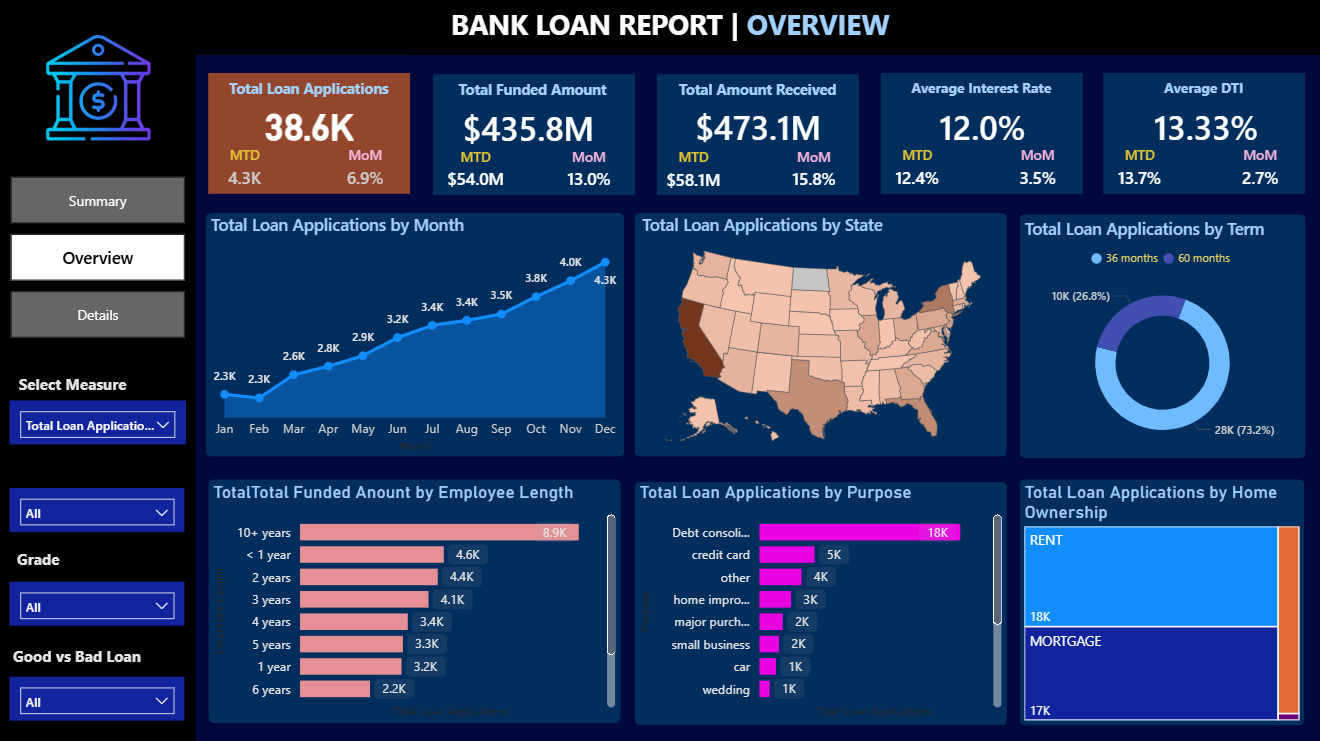

This screenshot's page, from the dashboard's own definition file:
{"tool":"powerbi","page":{"name":"Overview","canvas":[1280,720],"ordinal":1},"visuals":[{"type":"shape","box":[0,0,1280.3,54.9],"z":0},{"type":"textbox","box":[861,72.4,177,31.6],"z":0,"group":"g5"},{"type":"textbox","box":[1076.2,72.4,177,31.6],"z":0,"group":"g6"},{"type":"textbox","box":[645.8,73.6,177,31.6],"z":0,"group":"g7"},{"type":"shape","box":[0,54.3,191.8,666],"z":1000},{"type":"cardVisual","fields":{"Data":["Financial_Loan.Total Amount Received"]},"box":[644.1,89.8,181.3,67.7],"z":1000,"group":"g7"},{"type":"textbox","box":[433.1,2.4,444,51.9],"z":2000},{"type":"cardVisual","fields":{"Data":["Financial_Loan.Average Interest Rate"]},"box":[877.4,88.9,146.8,68.6],"z":2000,"group":"g5"},{"type":"cardVisual","fields":{"Data":["Financial_Loan.Avg DTI"]},"box":[1085.1,88.9,165.6,67.7],"z":2000,"group":"g6"},{"type":"cardVisual","title":"MTD","fields":{"Data":["Financial_Loan.MTD Total Amount Received"]},"box":[625.2,143.6,94.7,74.1],"z":2000,"group":"g7"},{"type":"shape","box":[852.7,72.4,194.9,116.6],"z":3000,"group":"g4"},{"type":"shape","box":[1067.9,72.4,194.9,116.6],"z":3000,"group":"g8"},{"type":"shape","box":[204.4,72.7,194.9,116.6],"z":3000,"group":"g3"},{"type":"shape","box":[420,73.6,194.9,116.6],"z":3000,"group":"g9"},{"type":"shape","box":[637.5,73.6,194.9,116.6],"z":3000,"group":"g2"},{"type":"cardVisual","title":"MoM","fields":{"Data":["Financial_Loan.MoM Total Amount Received"]},"box":[744.4,143.2,88.1,73.6],"z":3000,"group":"g7"},{"type":"shape","box":[201.5,207.5,404.2,235.3],"z":3000},{"type":"textbox","box":[212.7,72.7,177,31.6],"z":4000,"group":"g3"},{"type":"textbox","box":[428.2,73.6,177,31.6],"z":4000,"group":"g9"},{"type":"cardVisual","title":"MTD","fields":{"Data":["Financial_Loan.MTD Average Interest Rate"]},"box":[840.4,142.4,94.7,74.1],"z":4000,"group":"g5"},{"type":"cardVisual","title":"MTD","fields":{"Data":["Financial_Loan.MTD Average DTI"]},"box":[1055.6,142.4,94.7,74.1],"z":4000,"group":"g6"},{"type":"textbox","box":[12.1,390.9,55.5,31.4],"z":4000},{"type":"group","id":"g1","title":"Group 1","box":[192.1,72.7,207.2,144.1],"z":5000},{"type":"cardVisual","fields":{"Data":["Financial_Loan.Total Loan Applications"]},"box":[229.1,89.2,146.8,68.6],"z":5000,"group":"g3"},{"type":"cardVisual","fields":{"Data":["Financial_Loan.Total Funded Amount"]},"box":[408.5,89.8,208.7,70],"z":5000,"group":"g9"},{"type":"group","id":"g2","title":"Group 1","box":[625.2,73.6,207.2,144.1],"z":6000},{"type":"cardVisual","title":"MoM","fields":{"Data":["Financial_Loan.MoM Average Interest Rate"]},"box":[959.6,142,88.1,73.6],"z":6000,"group":"g5"},{"type":"cardVisual","title":"MoM","fields":{"Data":["Financial_Loan.MoM Average DTI"]},"box":[1174.8,142,88.1,73.6],"z":6000,"group":"g6"},{"type":"cardVisual","title":"MTD","fields":{"Data":["Financial_Loan.MTD Loan Applications"]},"box":[192.1,142.7,94.7,74.1],"z":6000,"group":"g3"},{"type":"cardVisual","title":"MTD","fields":{"Data":["Financial_Loan.MTD Funded Amount"]},"box":[407.3,144.1,108.6,73.6],"z":6000,"group":"g9"},{"type":"group","id":"g3","title":"Group 4","box":[192.1,72.7,207.2,144.1],"z":6001,"group":"g1"},{"type":"group","id":"g4","title":"Group 1","box":[840.4,72.4,207.2,144.1],"z":7000},{"type":"cardVisual","title":"MoM","fields":{"Data":["Financial_Loan.MoM Loan Applications"]},"box":[311.3,142.3,88.1,73.6],"z":7000,"group":"g3"},{"type":"cardVisual","title":"MoM","fields":{"Data":["Financial_Loan.MoM Total Funded Amount"]},"box":[526.8,143.2,88.1,73.6],"z":7000,"group":"g9"},{"type":"group","id":"g5","title":"Group 2","box":[840.4,72.4,207.2,144.1],"z":7003,"group":"g4"},{"type":"group","id":"g6","title":"Group 2","box":[1055.6,72.4,207.2,144.1],"z":7003,"group":"g8"},{"type":"group","id":"g7","title":"Group 2","box":[625.2,73.6,207.2,144.1],"z":7003,"group":"g2"},{"type":"group","id":"g8","title":"Group 1","box":[1055.6,72.4,207.2,144.1],"z":8000},{"type":"group","id":"g9","title":"Group 4","box":[407.3,73.6,209.9,144.1],"z":9000},{"type":"slicer","fields":{"Values":["Financial_Loan.address_state"]},"box":[12.1,472.6,168.9,42.2],"z":10000},{"type":"slicer","fields":{"Values":["Financial_Loan.Good v Bad Loan"]},"box":[12.1,654.8,168.9,42.2],"z":11000},{"type":"textbox","box":[12.1,525.7,55.5,31.4],"z":12000},{"type":"slicer","fields":{"Values":["Financial_Loan.grade"]},"box":[12.1,563.1,168.9,42.2],"z":13000},{"type":"textbox","box":[12.1,619.8,135.1,31.4],"z":14000},{"type":"areaChart","fields":{"Y":["Financial_Loan.Total Loan Applications"],"Category":["Date Table.Month"]},"box":[201.5,207.5,404.2,236.5],"z":15000},{"type":"slicer","fields":{"Values":["Parameter.Parameter"]},"box":[12.1,388.2,170.1,42.2],"z":16000},{"type":"textbox","box":[12.1,356.8,121.9,31.4],"z":17000},{"type":"shape","box":[615.3,207.5,359.5,235.3],"z":18000},{"type":"shapeMap","fields":{"Value":["Financial_Loan.Total Loan Applications"],"Category":["Financial_Loan.address_state"]},"box":[617.7,207.5,359.5,235.3],"z":19000},{"type":"shape","box":[986.9,208.7,276.3,235.3],"z":20000},{"type":"shape","box":[203.9,464.5,398.1,235.3],"z":21000},{"type":"donutChart","fields":{"Y":["Financial_Loan.Total Loan Applications"],"Category":["Financial_Loan.term"]},"box":[986.9,211.1,276.3,232.8],"z":22000},{"type":"shape","box":[615.3,466.9,359.5,235.3],"z":23000},{"type":"shape","box":[986.9,464.5,275.1,237.7],"z":24000},{"type":"barChart","title":"TotalTotal Funded Anount by Employee Length","fields":{"Y":["Financial_Loan.Total Loan Applications"],"Category":["Financial_Loan.emp_length"]},"box":[203.9,466.9,398.1,232.8],"z":25000},{"type":"barChart","fields":{"Y":["Financial_Loan.Total Loan Applications"],"Category":["Financial_Loan.purpose"]},"box":[615.3,466.9,359.5,232.8],"z":26000},{"type":"treemap","fields":{"Values":["Financial_Loan.Total Loan Applications"],"Group":["Financial_Loan.home_ownership"]},"box":[986.9,466.9,275.1,235.3],"z":27000},{"type":"pageNavigator","box":[13.3,172.5,168.9,155.6],"z":28000},{"type":"image","box":[18.1,3.6,159.3,167.7],"z":28001}]}

Visuals, with their boxes in screenshot pixels (x1, y1, x2, y2), scaled from the page's 1280x720 canvas onto the 1320x741 screenshot:
shape: {"left": 0, "top": 0, "right": 1319, "bottom": 57}
textbox: {"left": 888, "top": 75, "right": 1070, "bottom": 107}
textbox: {"left": 1110, "top": 75, "right": 1292, "bottom": 107}
textbox: {"left": 666, "top": 76, "right": 849, "bottom": 108}
shape: {"left": 0, "top": 56, "right": 198, "bottom": 740}
cardVisual - Financial_Loan.Total Amount Received: {"left": 664, "top": 92, "right": 851, "bottom": 162}
textbox: {"left": 447, "top": 2, "right": 905, "bottom": 56}
cardVisual - Financial_Loan.Average Interest Rate: {"left": 905, "top": 91, "right": 1056, "bottom": 162}
cardVisual - Financial_Loan.Avg DTI: {"left": 1119, "top": 91, "right": 1290, "bottom": 161}
"MTD" cardVisual: {"left": 645, "top": 148, "right": 742, "bottom": 224}
shape: {"left": 879, "top": 75, "right": 1080, "bottom": 195}
shape: {"left": 1101, "top": 75, "right": 1302, "bottom": 195}
shape: {"left": 211, "top": 75, "right": 412, "bottom": 195}
shape: {"left": 433, "top": 76, "right": 634, "bottom": 196}
shape: {"left": 657, "top": 76, "right": 858, "bottom": 196}
"MoM" cardVisual: {"left": 768, "top": 147, "right": 859, "bottom": 223}
shape: {"left": 208, "top": 214, "right": 625, "bottom": 456}
textbox: {"left": 219, "top": 75, "right": 402, "bottom": 107}
textbox: {"left": 442, "top": 76, "right": 624, "bottom": 108}
"MTD" cardVisual: {"left": 867, "top": 147, "right": 964, "bottom": 223}
"MTD" cardVisual: {"left": 1089, "top": 147, "right": 1186, "bottom": 223}
textbox: {"left": 12, "top": 402, "right": 70, "bottom": 435}
"Group 1" group: {"left": 198, "top": 75, "right": 412, "bottom": 223}
cardVisual - Financial_Loan.Total Loan Applications: {"left": 236, "top": 92, "right": 388, "bottom": 162}
cardVisual - Financial_Loan.Total Funded Amount: {"left": 421, "top": 92, "right": 636, "bottom": 164}
"Group 1" group: {"left": 645, "top": 76, "right": 858, "bottom": 224}
"MoM" cardVisual: {"left": 990, "top": 146, "right": 1080, "bottom": 222}
"MoM" cardVisual: {"left": 1212, "top": 146, "right": 1302, "bottom": 222}
"MTD" cardVisual: {"left": 198, "top": 147, "right": 296, "bottom": 223}
"MTD" cardVisual: {"left": 420, "top": 148, "right": 532, "bottom": 224}
"Group 4" group: {"left": 198, "top": 75, "right": 412, "bottom": 223}
"Group 1" group: {"left": 867, "top": 75, "right": 1080, "bottom": 223}
"MoM" cardVisual: {"left": 321, "top": 146, "right": 412, "bottom": 222}
"MoM" cardVisual: {"left": 543, "top": 147, "right": 634, "bottom": 223}
"Group 2" group: {"left": 867, "top": 75, "right": 1080, "bottom": 223}
"Group 2" group: {"left": 1089, "top": 75, "right": 1302, "bottom": 223}
"Group 2" group: {"left": 645, "top": 76, "right": 858, "bottom": 224}
"Group 1" group: {"left": 1089, "top": 75, "right": 1302, "bottom": 223}
"Group 4" group: {"left": 420, "top": 76, "right": 636, "bottom": 224}
slicer - Financial_Loan.address_state: {"left": 12, "top": 486, "right": 187, "bottom": 530}
slicer - Financial_Loan.Good v Bad Loan: {"left": 12, "top": 674, "right": 187, "bottom": 717}
textbox: {"left": 12, "top": 541, "right": 70, "bottom": 573}
slicer - Financial_Loan.grade: {"left": 12, "top": 580, "right": 187, "bottom": 623}
textbox: {"left": 12, "top": 638, "right": 152, "bottom": 670}
areaChart - Financial_Loan.Total Loan Applications x Date Table.Month: {"left": 208, "top": 214, "right": 625, "bottom": 457}
slicer - Parameter.Parameter: {"left": 12, "top": 400, "right": 188, "bottom": 443}
textbox: {"left": 12, "top": 367, "right": 138, "bottom": 400}
shape: {"left": 635, "top": 214, "right": 1005, "bottom": 456}
shapeMap - Financial_Loan.Total Loan Applications x Financial_Loan.address_state: {"left": 637, "top": 214, "right": 1008, "bottom": 456}
shape: {"left": 1018, "top": 215, "right": 1303, "bottom": 457}
shape: {"left": 210, "top": 478, "right": 621, "bottom": 720}
donutChart - Financial_Loan.Total Loan Applications x Financial_Loan.term: {"left": 1018, "top": 217, "right": 1303, "bottom": 457}
shape: {"left": 635, "top": 481, "right": 1005, "bottom": 723}
shape: {"left": 1018, "top": 478, "right": 1301, "bottom": 723}
"TotalTotal Funded Anount by Employee Length" barChart: {"left": 210, "top": 481, "right": 621, "bottom": 720}
barChart - Financial_Loan.Total Loan Applications x Financial_Loan.purpose: {"left": 635, "top": 481, "right": 1005, "bottom": 720}
treemap - Financial_Loan.Total Loan Applications x Financial_Loan.home_ownership: {"left": 1018, "top": 481, "right": 1301, "bottom": 723}
pageNavigator: {"left": 14, "top": 178, "right": 188, "bottom": 338}
image: {"left": 19, "top": 4, "right": 183, "bottom": 176}
